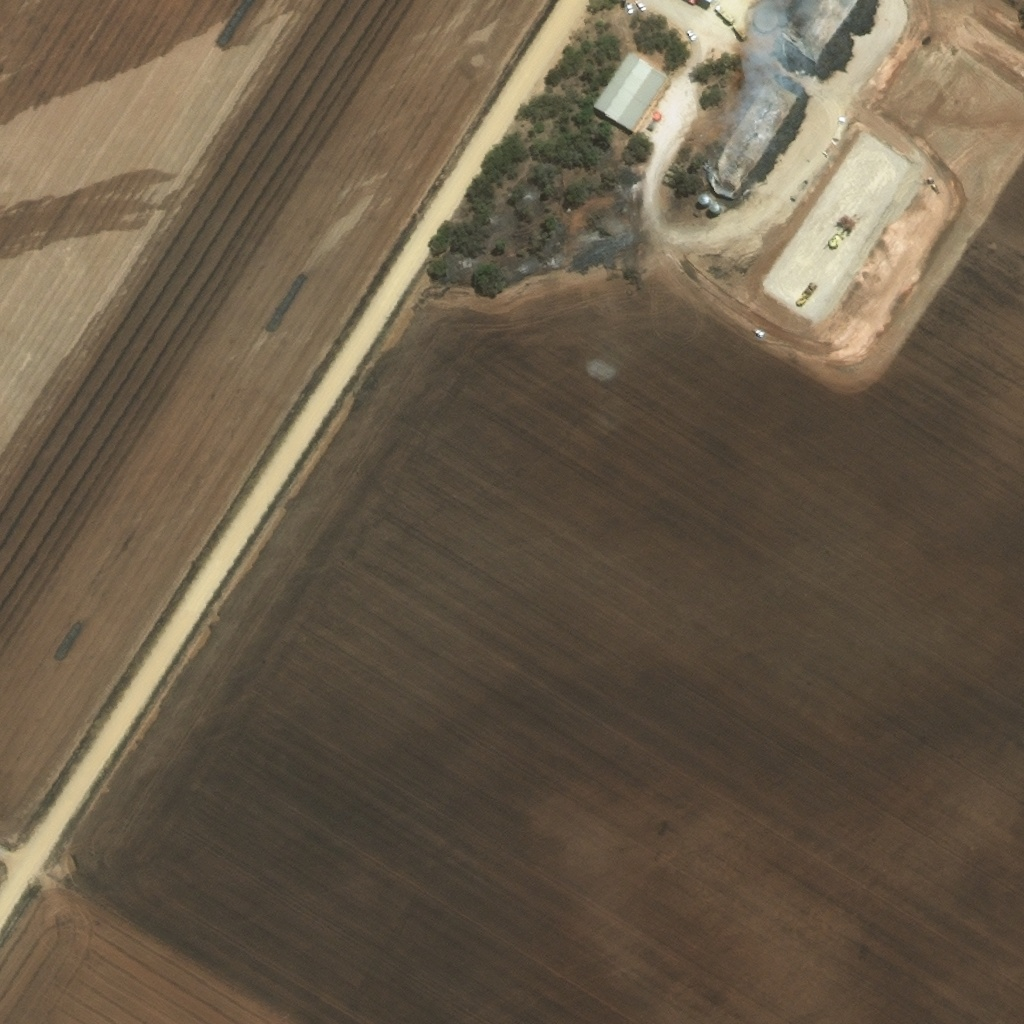0 no-damage: (589, 48, 668, 133), (752, 7, 776, 33), (699, 189, 710, 207), (712, 197, 722, 214)
3 destroyed: (702, 73, 798, 197)
